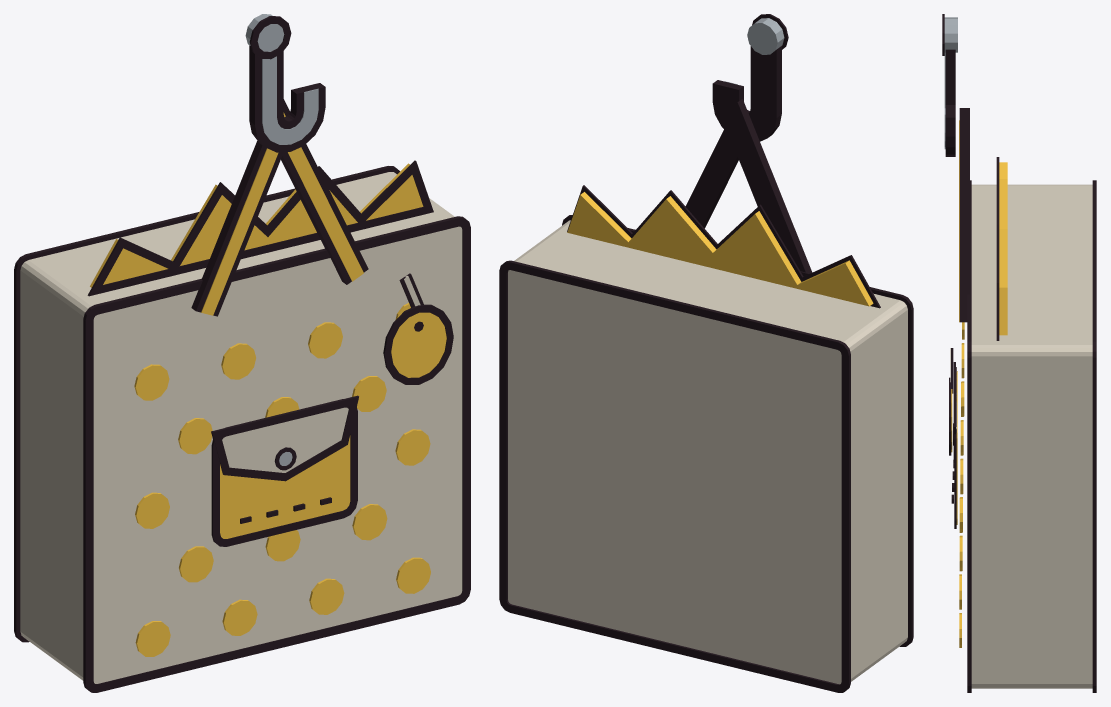
3 views of the same model, side by side, from view 1: azimuth 30°, elevation 25°; view 2: azimuth 150°, elevation 25°; view 3: azimuth 270°, elevation 25° (orthographic). The views are drawn at different scales.
Parts seen in each view (by area): view 1: Bag Holders proposal; view 2: Bag Holders proposal; view 3: Bag Holders proposal.
Boxes of the visible parts, x1,y1,x2,y2 form: Bag Holders proposal: [14, 14, 470, 692]; Bag Holders proposal: [499, 14, 913, 692]; Bag Holders proposal: [942, 14, 1096, 692].
Size of the model in its own units: 0.6316 by 1.01 by 0.2421.
